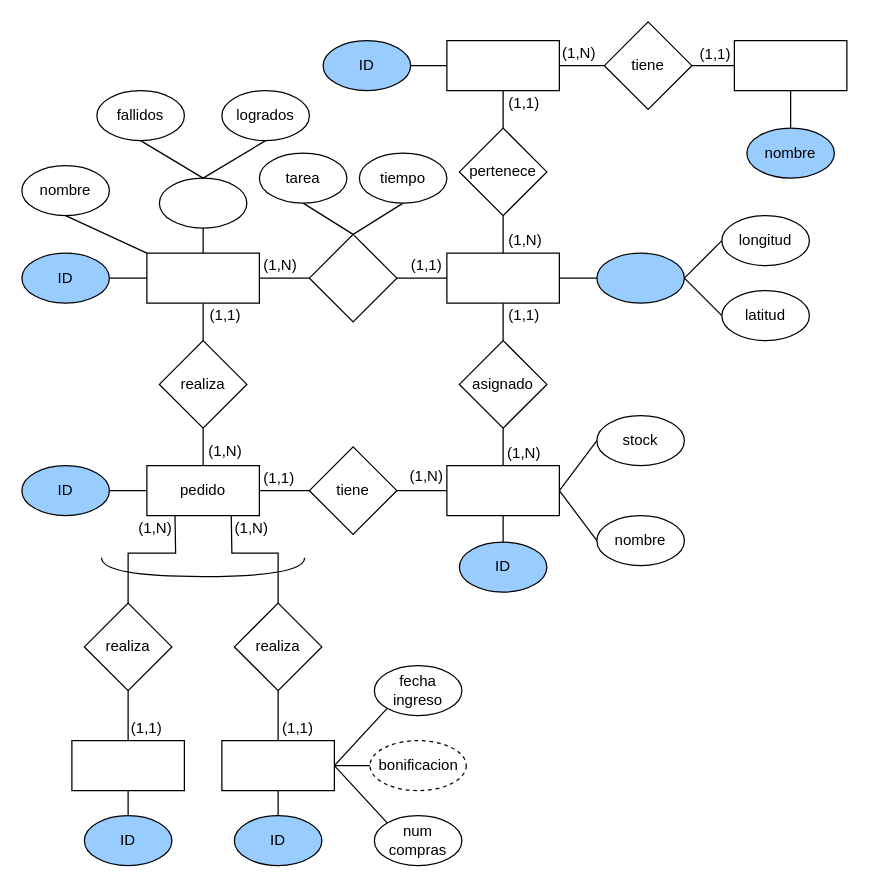
Image size: 869x888. Some labels were removed from this diagram. Here are the shapes that lost their labels. From the top down, the centre of each, then its label:
(502,65): vivero
(790,65): empresa
(202,202): objetivos
(202,277): empleado
(352,277): trabaja
(502,277): zona
(640,277): georref
(502,490): producto
(127,765): cliente
(277,765): cliente+
